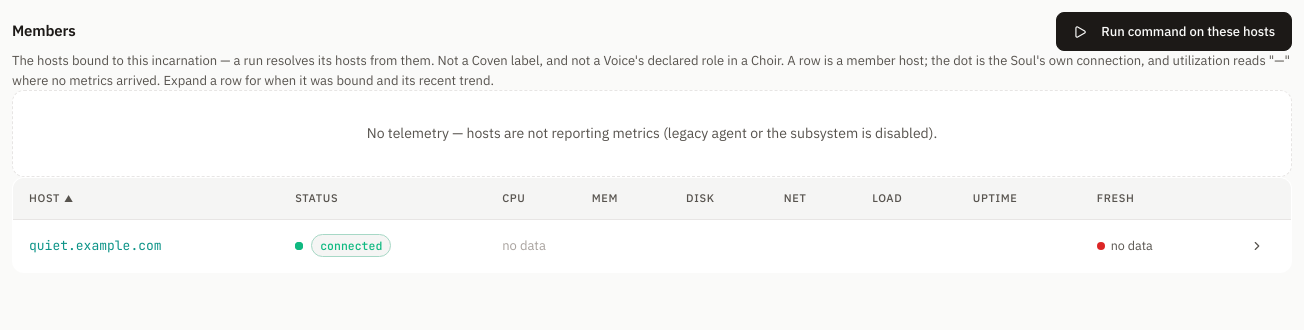
it: MembersPanel — vitals (roster rows ⋈ telemetry) › expand a member with no telemetry → facts only, no per-soul request
Step 1. Click the button named "Show details for host" → [1257, 246], box [1239,232,1275,260]
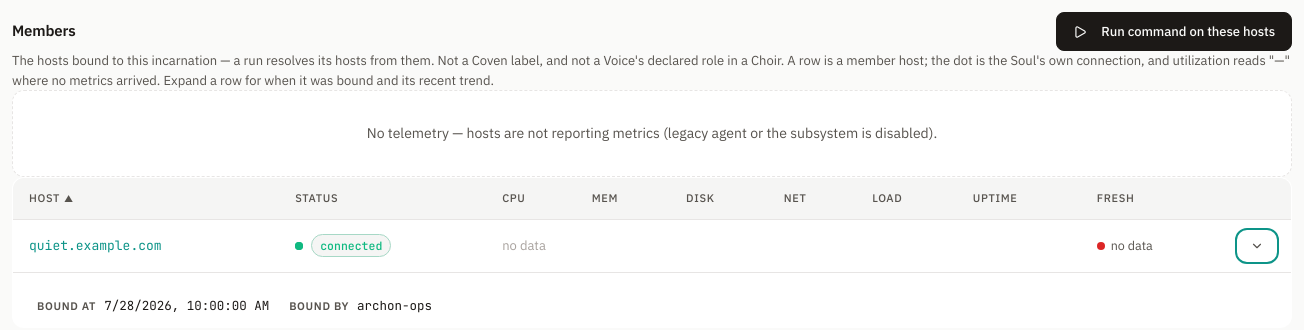
Check: the element with test id "member-facts" shows "archon-ops", box [357,296,432,314]
